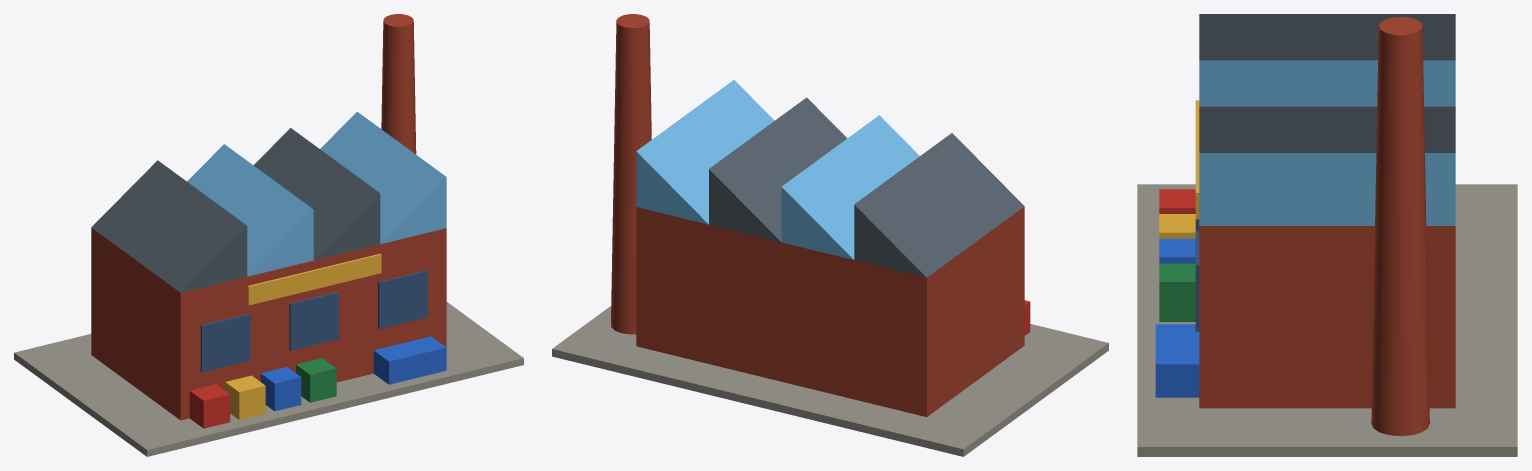
File: toy-factory.glb
The picture shows the model from 3 angles, left to right: view 1: azimuth 30°, elevation 25°; view 2: azimuth 150°, elevation 25°; view 3: azimuth 270°, elevation 25°; orthographic projection. The views are drawn at different scales.
Parts seen in each view (by area): view 1: brick, slate, stone, sky, glass, yellow, blue, red, green; view 2: brick, slate, stone, sky; view 3: brick, stone, sky, slate, blue, green, yellow, red, glass.
Part boxes in pixels (box(x1,y1,x2,y2)): brick: box(91, 14, 446, 420); slate: box(91, 128, 380, 292); stone: box(14, 302, 523, 456); sky: box(187, 111, 446, 276); glass: box(200, 270, 427, 372); yellow: box(225, 253, 381, 419); blue: box(260, 336, 446, 411); red: box(189, 384, 230, 428); green: box(296, 358, 336, 402); brick: box(611, 14, 1024, 416); slate: box(709, 97, 1024, 277); stone: box(552, 306, 1108, 456); sky: box(636, 80, 919, 259); brick: box(1199, 16, 1455, 436); stone: box(1137, 184, 1517, 456); sky: box(1199, 60, 1455, 225); slate: box(1199, 14, 1455, 152); blue: box(1155, 238, 1199, 397); green: box(1159, 263, 1195, 321); yellow: box(1159, 100, 1199, 238); red: box(1159, 189, 1195, 213); glass: box(1195, 219, 1199, 331).
Size of the model in its own units: 170 by 123 by 104.
